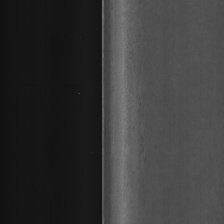silk_spot: (109, 13, 148, 209)
